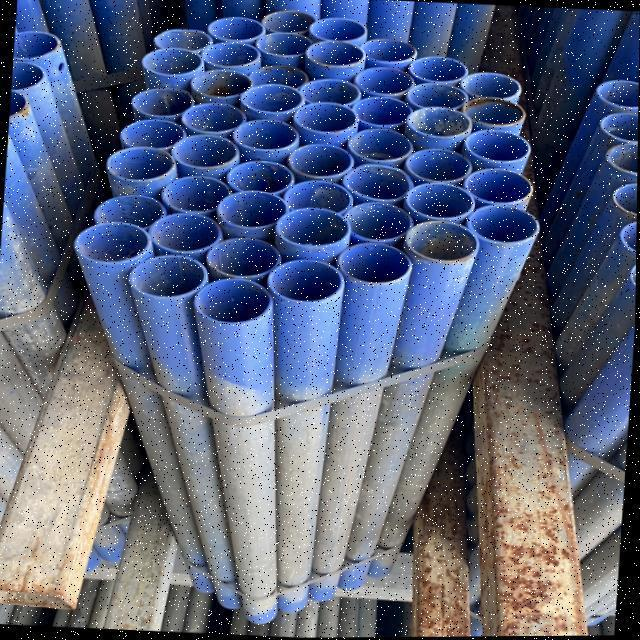pipe: (126, 252, 209, 302), (193, 276, 274, 326), (72, 220, 152, 268), (266, 258, 346, 306), (334, 242, 414, 288), (274, 206, 352, 252), (404, 220, 481, 266), (464, 204, 542, 248), (205, 236, 283, 280), (146, 212, 224, 256), (215, 188, 290, 232), (340, 201, 414, 245), (160, 174, 232, 217), (404, 182, 476, 224), (341, 164, 415, 204), (93, 193, 167, 233), (462, 167, 534, 207), (105, 144, 176, 184), (168, 133, 240, 172), (282, 180, 354, 218), (462, 128, 532, 166), (225, 160, 295, 198), (404, 148, 473, 185), (346, 128, 415, 165), (286, 143, 354, 180), (232, 118, 300, 154), (180, 100, 247, 136), (406, 106, 474, 141), (291, 102, 360, 136), (238, 82, 306, 116), (120, 118, 187, 152), (460, 97, 526, 130), (350, 96, 414, 130), (131, 86, 194, 119), (298, 77, 362, 109), (405, 82, 468, 114), (190, 68, 252, 100), (353, 67, 414, 99), (305, 40, 366, 71), (247, 64, 308, 95), (140, 48, 203, 78), (407, 56, 468, 85), (459, 72, 522, 100), (358, 37, 417, 66), (254, 31, 313, 60), (199, 42, 260, 70), (206, 16, 266, 44), (307, 16, 366, 44), (152, 28, 212, 55), (260, 9, 316, 36)
